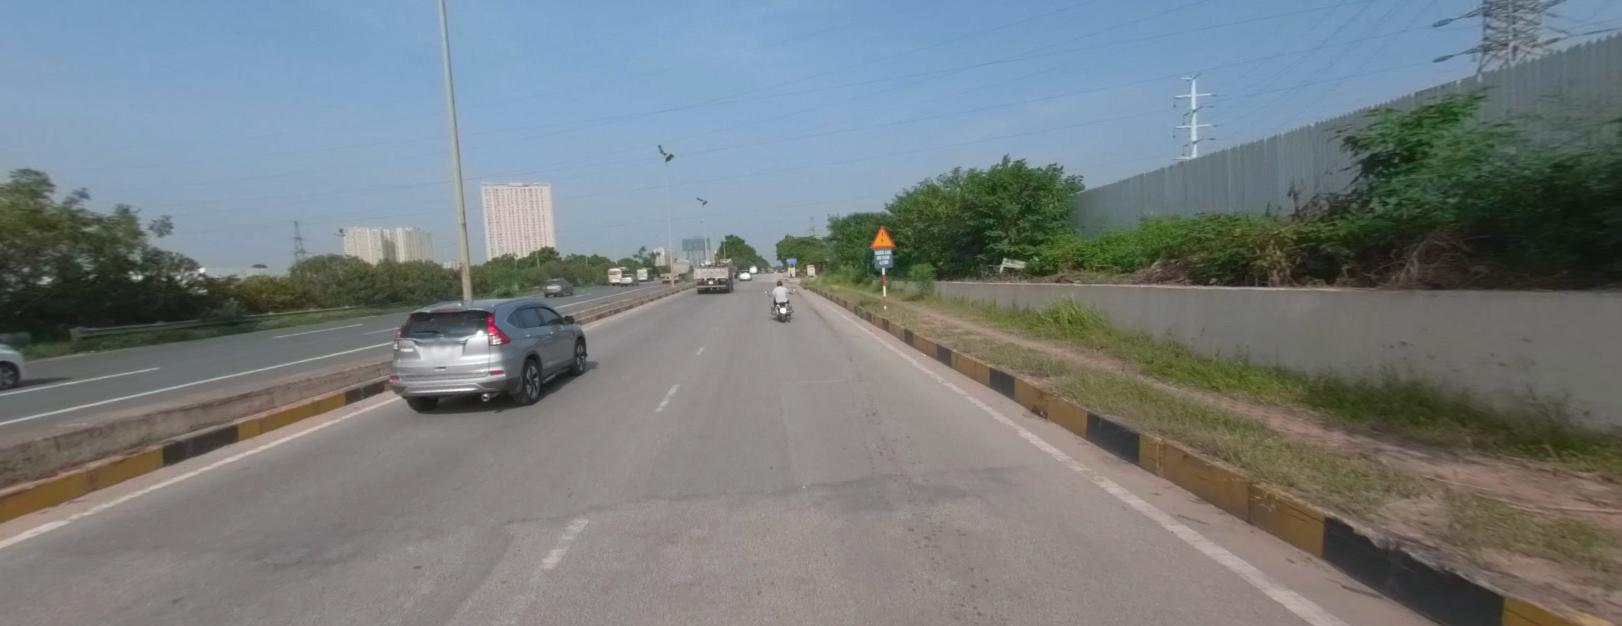Nguy hiem: (869, 223, 894, 246), (870, 223, 894, 246)
